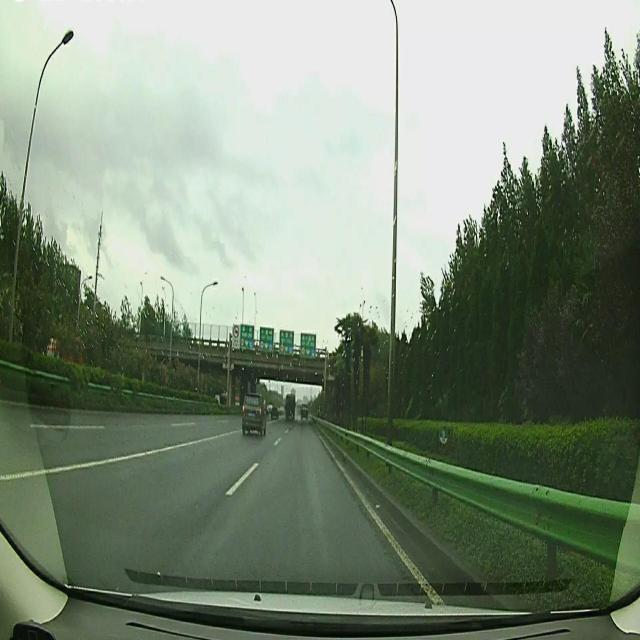car: (242, 397, 266, 431), (286, 390, 295, 418), (302, 408, 308, 421), (272, 409, 275, 420)
